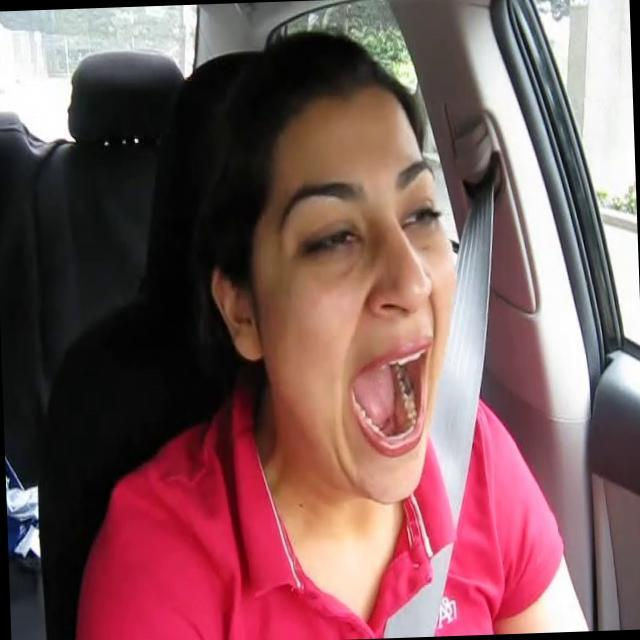Yawning: (348, 330, 436, 459)
